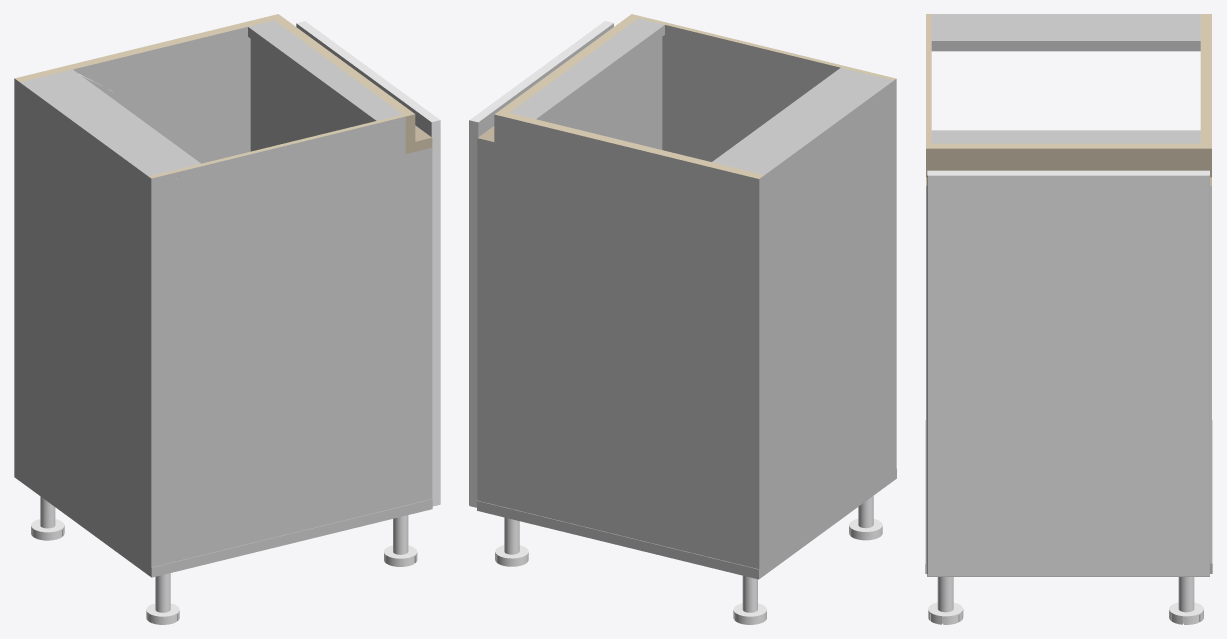
The picture shows the model from 3 angles, left to right: view 1: azimuth 30°, elevation 25°; view 2: azimuth 150°, elevation 25°; view 3: azimuth 270°, elevation 25°; orthographic projection. The views are drawn at different scales.
Visible parts, largest first — view 1: Model; view 2: Model; view 3: Model.
Part boxes in pixels (x1,y1,x2,y2): Model: (14,14,440,624); Model: (469,14,896,624); Model: (925,14,1212,624).
Bounding box in the file's own units: 550 × 817 × 451.
